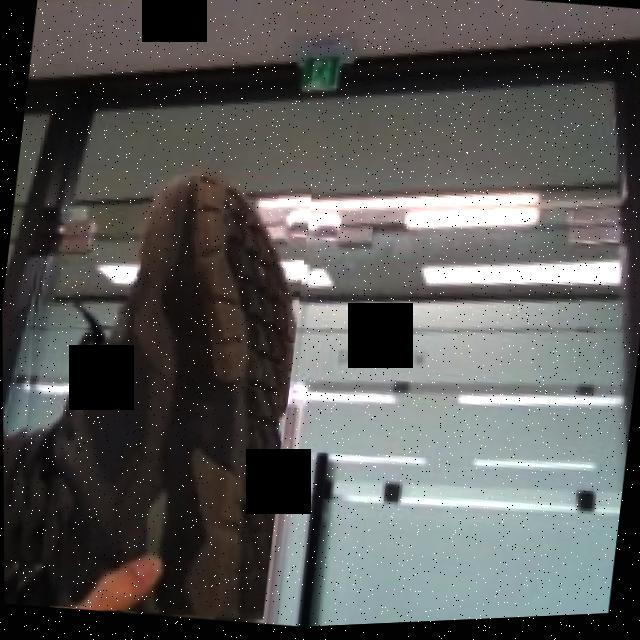shoe: (1, 154, 315, 635)
